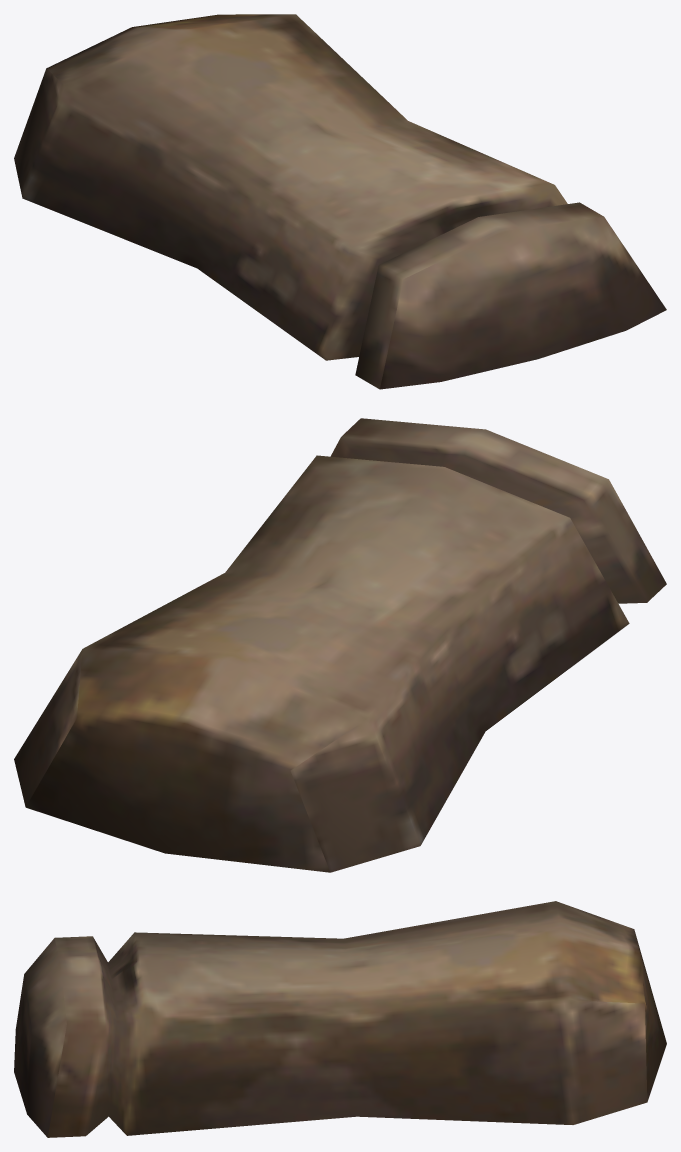
The model's file is nashgar_construct_entrance01a.FBX.
3 renders of one model, top to bottom at view 1: azimuth 30°, elevation 25°; view 2: azimuth 150°, elevation 25°; view 3: azimuth 270°, elevation 25°, orthographic. The views are drawn at different scales.
Parts seen in each view (by area): view 1: nashgar_construct_entrance01a; view 2: nashgar_construct_entrance01a; view 3: nashgar_construct_entrance01a.
Boxes of the visible parts, x1=… form: nashgar_construct_entrance01a: x1=14, y1=14, x2=666, y2=389; nashgar_construct_entrance01a: x1=14, y1=418, x2=666, y2=872; nashgar_construct_entrance01a: x1=14, y1=901, x2=666, y2=1137.
Bounding box in the file's own units: 2.54 × 0.8128 × 4.24.
